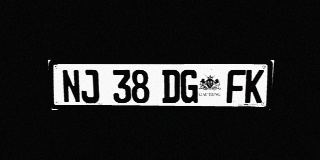3: (112, 70, 131, 103)
8: (131, 70, 149, 103)
D: (162, 70, 180, 103)
F: (226, 70, 246, 103)
G: (180, 70, 198, 103)
J: (80, 69, 99, 103)
K: (244, 70, 264, 103)
N: (61, 69, 81, 103)
